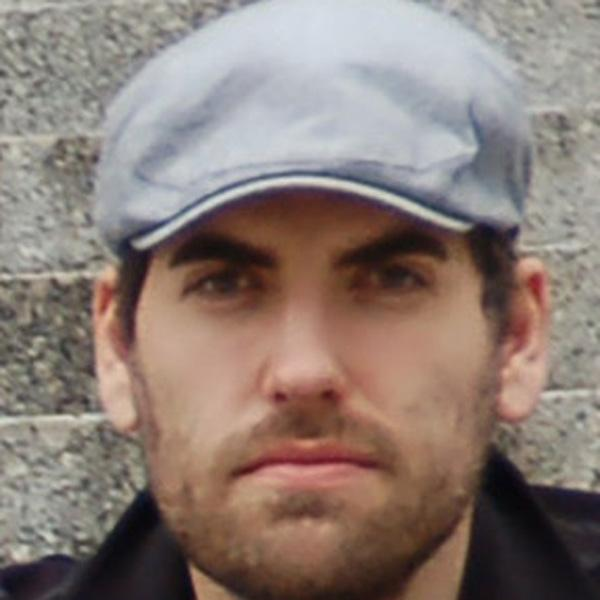Eyes: (181, 261, 274, 315), (347, 256, 431, 305)
